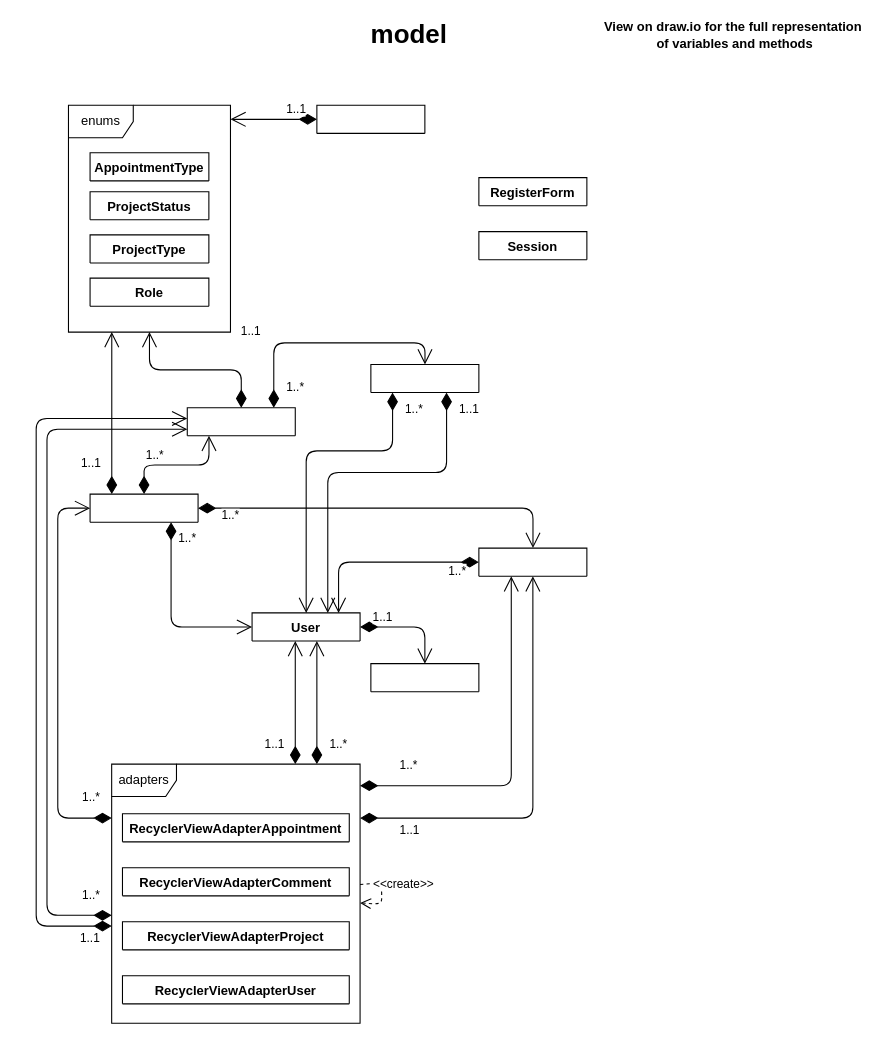
The diagram is 887 pixels wide and 1042 high, and some of its shapes have lost their labels. The shapes that lost their labels are listed below. From the top down, each one's centre as x and y in pixels, then its label:
point 370,118: InviteForm
point 424,378: Reminder
point 240,421: Appointment
point 143,507: Project
point 532,561: Comment
point 424,677: UserInfo
